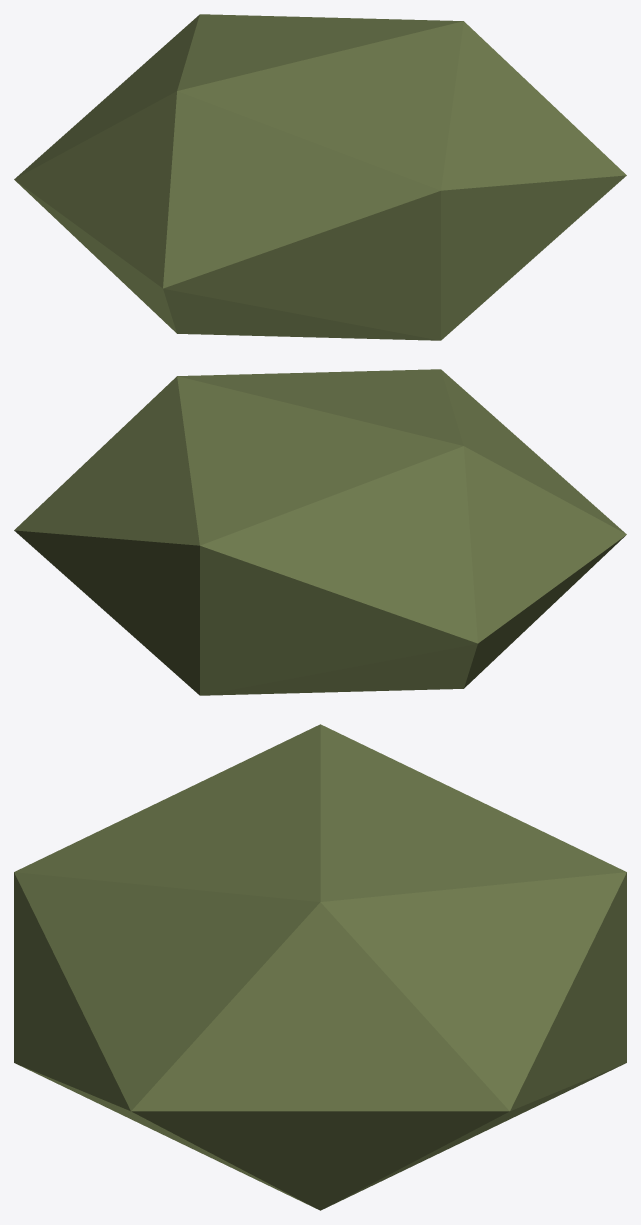
Rendered from grass_hill-far.glb.
3 renders of one model, top to bottom at view 1: azimuth 30°, elevation 25°; view 2: azimuth 150°, elevation 25°; view 3: azimuth 270°, elevation 25°, orthographic. The views are drawn at different scales.
Parts seen in each view (by area): view 1: world-scenery/grass_hill-far; view 2: world-scenery/grass_hill-far; view 3: world-scenery/grass_hill-far.
Part boxes in pixels (left/top/right/bottom): world-scenery/grass_hill-far: left=14, top=14, right=626, bottom=340; world-scenery/grass_hill-far: left=14, top=369, right=626, bottom=695; world-scenery/grass_hill-far: left=14, top=724, right=626, bottom=1210.
Bounding box in the file's own units: 5.1 × 2.55 × 4.59.
